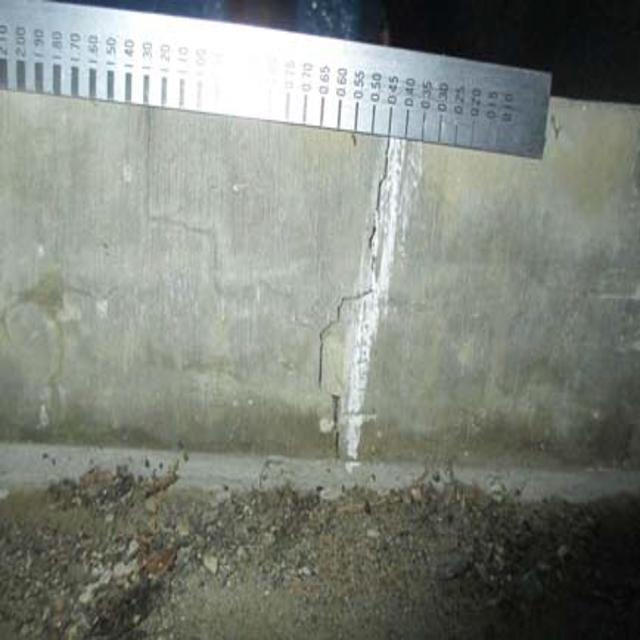crack: (310, 117, 400, 447)
